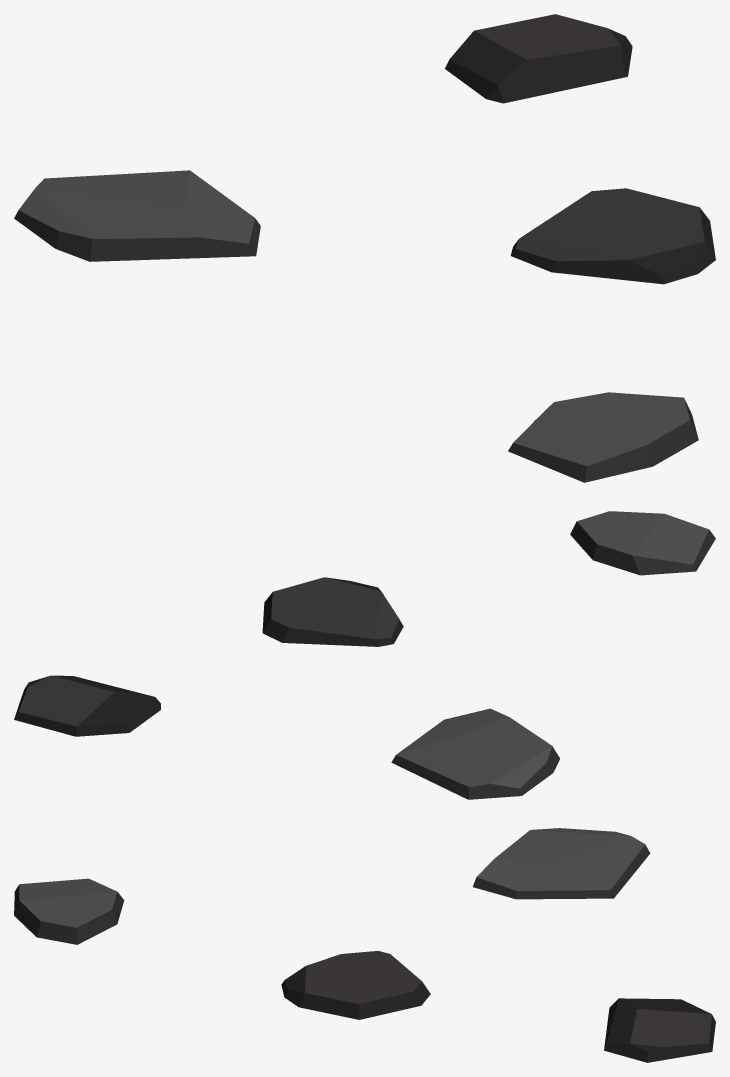
Rendered from Rock_Patch_01.fbx.
The picture shows the model from 3 angles, top to bottom: view 1: azimuth 30°, elevation 25°; view 2: azimuth 150°, elevation 25°; view 3: azimuth 270°, elevation 25°; orthographic projection. The views are drawn at different scales.
Visible parts, largest first — view 1: Rock_Patch_01; view 2: Rock_Patch_01; view 3: Rock_Patch_01.
Boxes of the visible parts, x1=… form: Rock_Patch_01: x1=14, y1=14, x2=715, y2=482; Rock_Patch_01: x1=14, y1=511, x2=715, y2=799; Rock_Patch_01: x1=14, y1=828, x2=715, y2=1062.
Size of the model in its own units: 115 by 3.43 by 151.
